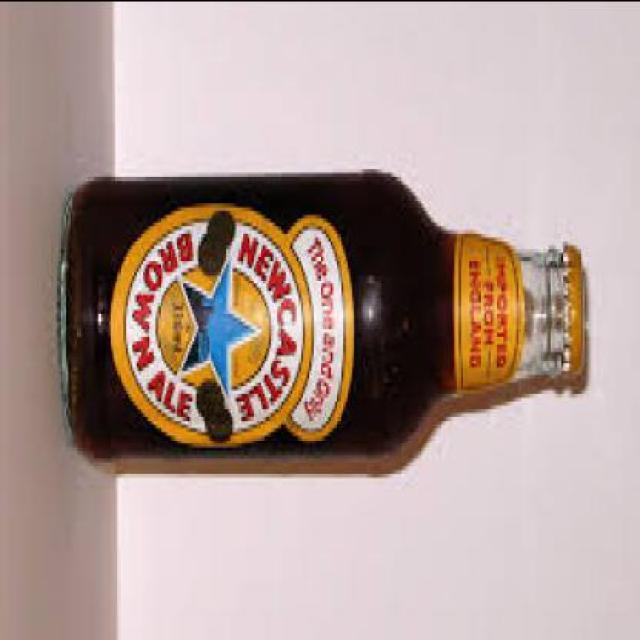GLASS: (60, 172, 568, 465)
METAL: (572, 240, 588, 362)
